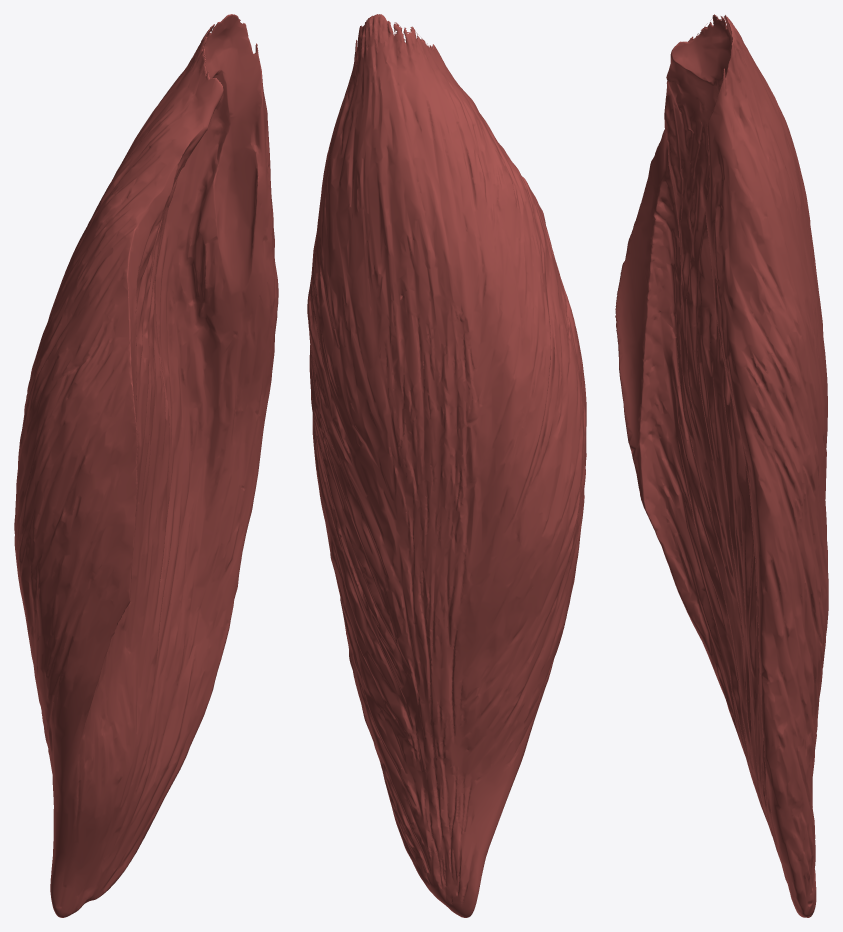
The model's file is FMA22559.glb.
The picture shows the model from 3 angles, left to right: view 1: azimuth 30°, elevation 25°; view 2: azimuth 150°, elevation 25°; view 3: azimuth 270°, elevation 25°; orthographic projection. The views are drawn at different scales.
Visible parts, largest first — view 1: FMA22559; view 2: FMA22559; view 3: FMA22559.
Boxes of the visible parts, x1,y1,x2,y2 form: FMA22559: (14,14,278,917); FMA22559: (307,14,586,917); FMA22559: (615,14,828,917).
Bounding box in the file's own units: 0.0824 × 0.2669 × 0.0535.
